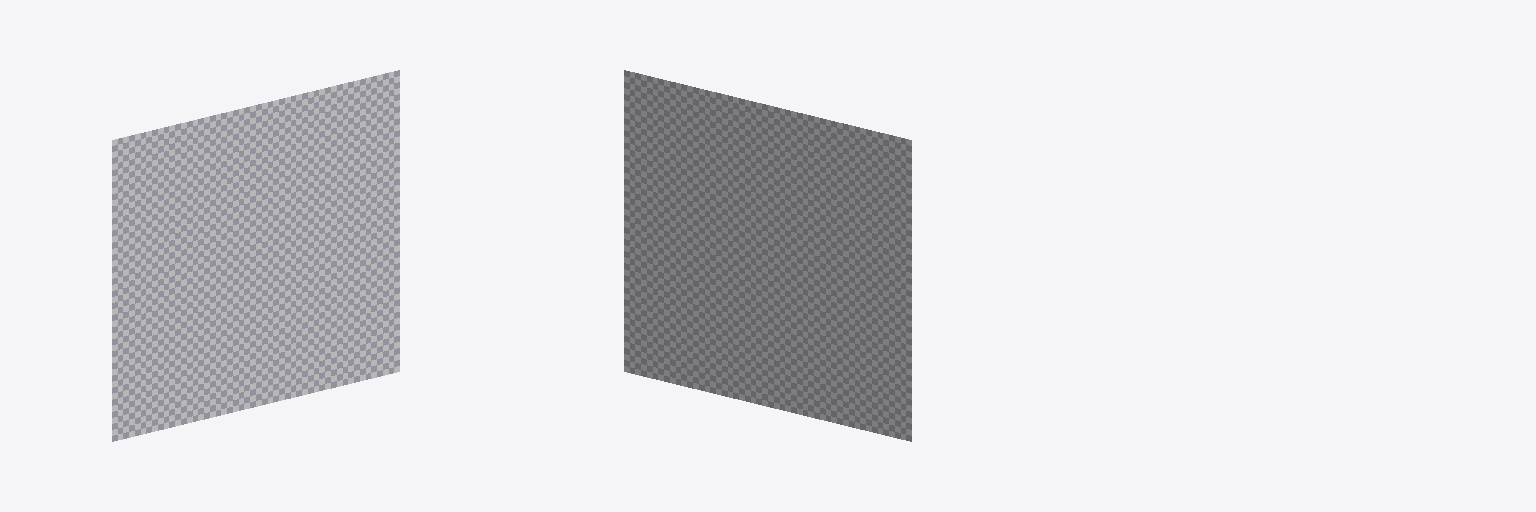
The picture shows the model from 3 angles: view 1: azimuth 30°, elevation 25°; view 2: azimuth 150°, elevation 25°; view 3: azimuth 270°, elevation 25°; orthographic projection.
Parts seen in each view (by area): view 1: Plane; view 2: Plane; view 3: none.
Boxes of the visible parts, <box> form: Plane: <box>112,70,399,441</box>; Plane: <box>624,70,911,441</box>.
Size of the model in its own units: 50 by 50 by 0.
Materials: 1 (1 with a texture image).